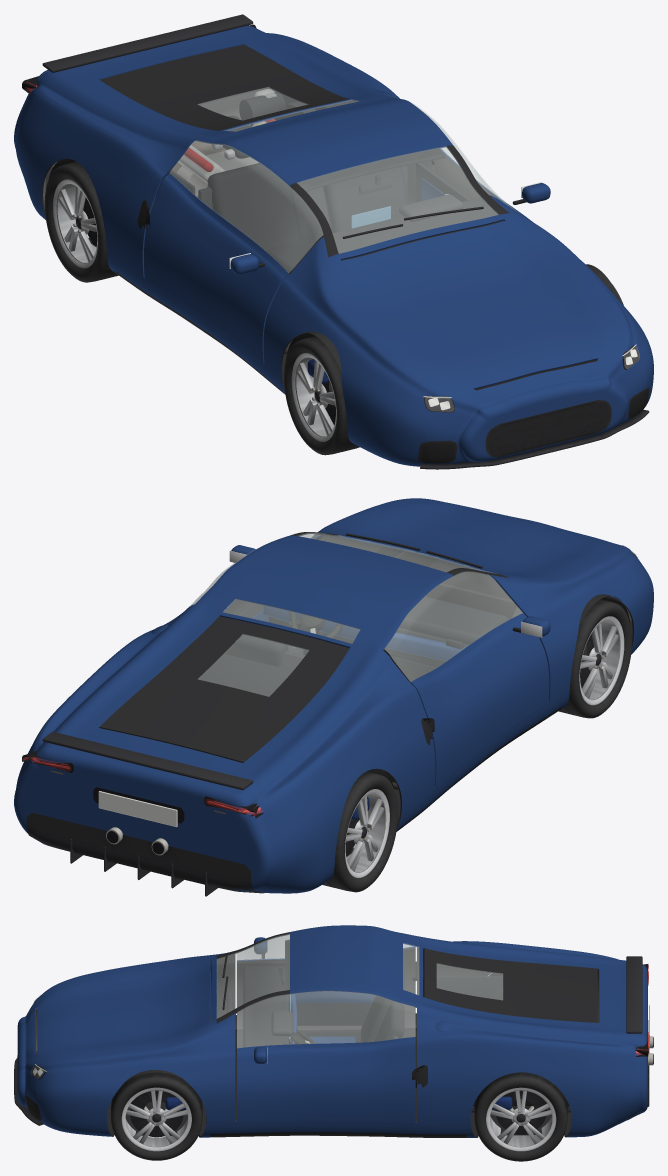
The picture shows the model from 3 angles, top to bottom: view 1: azimuth 30°, elevation 25°; view 2: azimuth 150°, elevation 25°; view 3: azimuth 270°, elevation 25°; orthographic projection. The views are drawn at different scales.
Visible parts, largest first — view 1: Body, Hood, Door_FR, Windshield, Tailgate, Door_FR_Glass, Seat_FR_Back, Dash_Top, Grille0_Mesh, Wheel_FR_Tire, Seat_FL_Back, Wheel_RR_Tire (+14 smaller); view 2: Body, Tailgate, Door_FR, Hood, Door_FR_Glass, Diffuser, Tailgate_Glass, Wheel_RR_Tire, Dash_Top, Wheel_FR_Tire, Spoiler, Firewall_Rear (+13 smaller); view 3: Body, Door_FL, Hood, Door_FL_Glass, Tailgate, Windshield, Wheel_RL_Tire, Wheel_FL_Tire, Dash_Top, Tailgate_Glass, Door_FR_Card, Spoiler (+15 smaller).
Boxes of the visible parts, bbox=[...] form: Body: bbox=[14, 25, 653, 466]; Hood: bbox=[341, 220, 602, 389]; Door_FR: bbox=[144, 173, 289, 362]; Windshield: bbox=[297, 146, 498, 253]; Tailgate: bbox=[100, 44, 349, 130]; Door_FR_Glass: bbox=[169, 140, 323, 272]; Seat_FR_Back: bbox=[207, 163, 301, 250]; Dash_Top: bbox=[266, 198, 503, 273]; Grille0_Mesh: bbox=[488, 402, 609, 454]; Wheel_FR_Tire: bbox=[284, 336, 359, 455]; Seat_FL_Back: bbox=[323, 167, 408, 232]; Wheel_RR_Tire: bbox=[44, 161, 118, 282]; Body: bbox=[14, 498, 653, 893]; Tailgate: bbox=[99, 616, 349, 762]; Door_FR: bbox=[410, 613, 549, 786]; Hood: bbox=[341, 503, 601, 576]; Door_FR_Glass: bbox=[384, 571, 522, 681]; Diffuser: bbox=[26, 813, 263, 893]; Tailgate_Glass: bbox=[198, 634, 308, 696]; Wheel_RR_Tire: bbox=[322, 771, 397, 892]; Dash_Top: bbox=[399, 596, 508, 644]; Wheel_FR_Tire: bbox=[558, 599, 631, 718]; Spoiler: bbox=[42, 731, 253, 790]; Firewall_Rear: bbox=[198, 651, 395, 782]; Body: bbox=[17, 925, 647, 1137]; Door_FL: bbox=[237, 1037, 415, 1122]; Hood: bbox=[37, 960, 210, 1053]; Door_FL_Glass: bbox=[237, 991, 415, 1047]; Tailgate: bbox=[424, 948, 597, 1022]; Windshield: bbox=[217, 934, 289, 1018]; Wheel_RL_Tire: bbox=[474, 1072, 567, 1161]; Wheel_FL_Tire: bbox=[111, 1072, 202, 1160]; Dash_Top: bbox=[243, 966, 288, 1047]; Tailgate_Glass: bbox=[437, 963, 502, 999]; Door_FR_Card: bbox=[296, 1003, 371, 1025]; Spoiler: bbox=[626, 956, 642, 1033].
Bounding box in the file's own units: 2.08 × 1.24 × 4.74.
